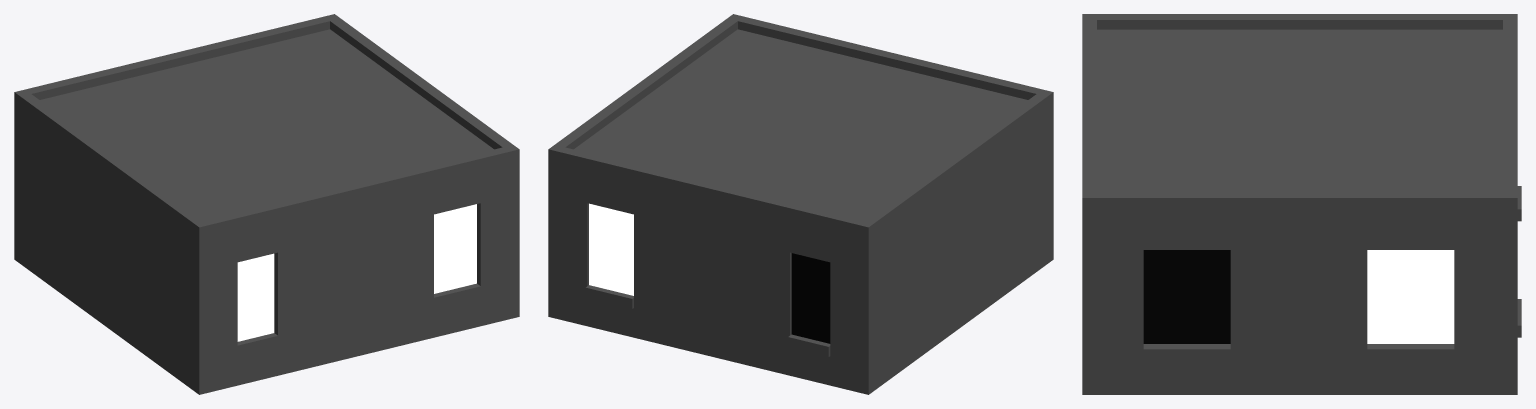
Rendered from Immeuble3MHaut2.fbx.
The picture shows the model from 3 angles, left to right: view 1: azimuth 30°, elevation 25°; view 2: azimuth 150°, elevation 25°; view 3: azimuth 270°, elevation 25°; orthographic projection. The views are drawn at different scales.
Visible parts, largest first — view 1: Cube.032; view 2: Cube.032; view 3: Cube.032.
Boxes of the visible parts, x1,y1,x2,y2 form: Cube.032: [14, 14, 519, 394]; Cube.032: [548, 14, 1053, 394]; Cube.032: [1082, 14, 1521, 394].
Bounding box in the file's own units: 2017 × 1000 × 2019.
